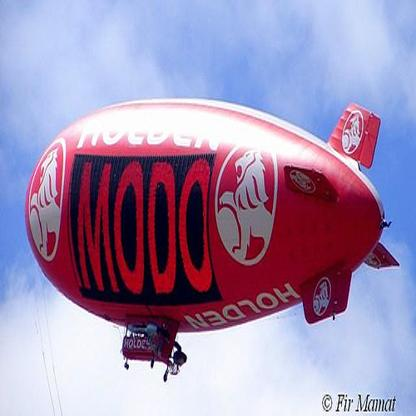Airship: (27, 96, 408, 382)
